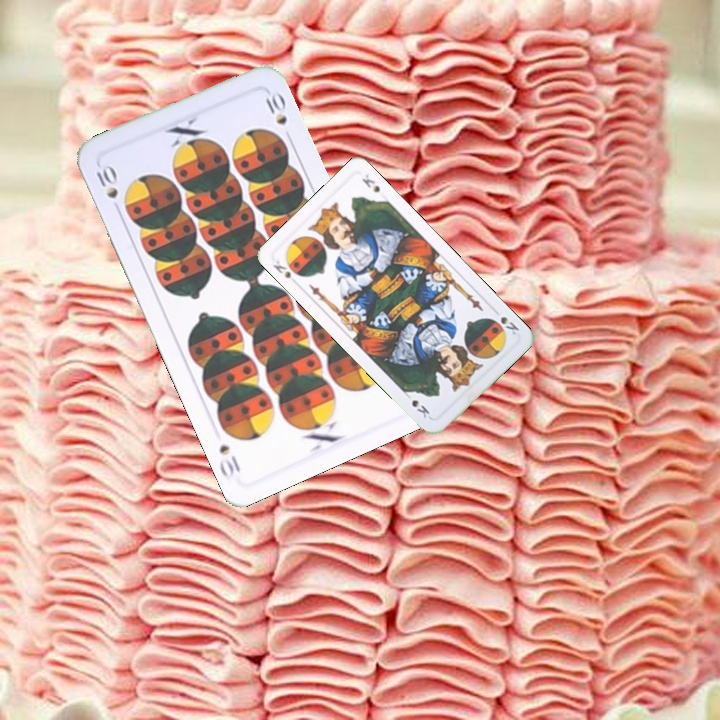S10: (92, 160, 124, 217)
SK: (269, 256, 304, 282), (496, 312, 522, 339)
